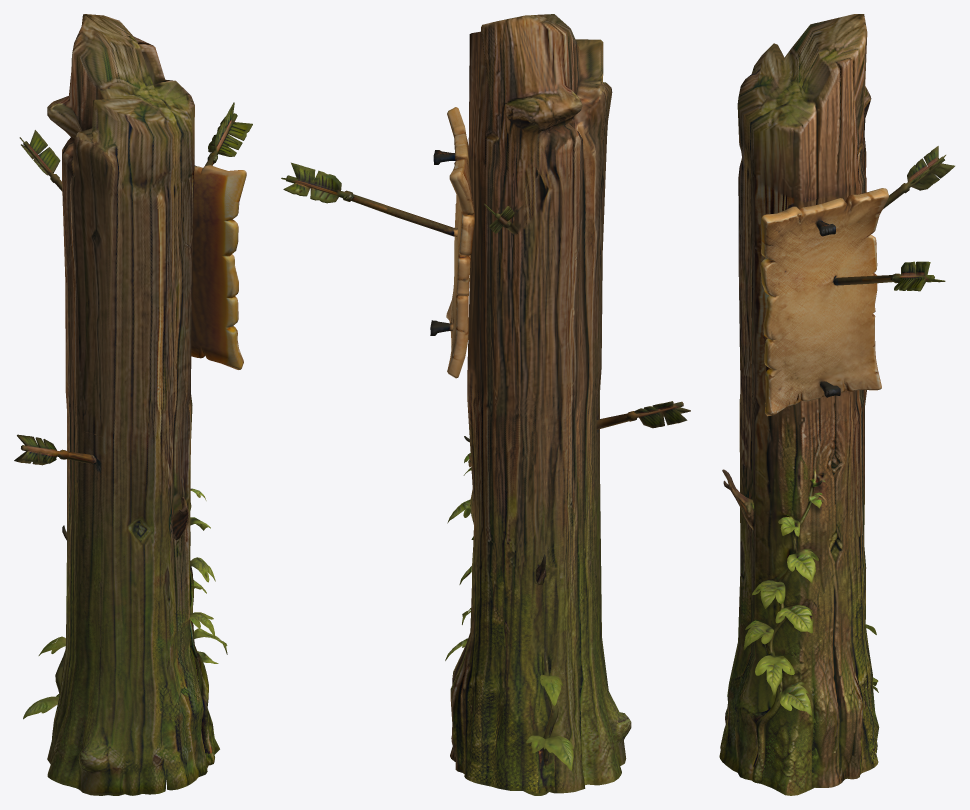
The model's file is SM_Env_SherwoodWantedPost.fbx.
The picture shows the model from 3 angles, left to right: view 1: azimuth 30°, elevation 25°; view 2: azimuth 150°, elevation 25°; view 3: azimuth 270°, elevation 25°; orthographic projection. The views are drawn at different scales.
Parts seen in each view (by area): view 1: SM_Env_SherwoodWantedPost; view 2: SM_Env_SherwoodWantedPost; view 3: SM_Env_SherwoodWantedPost.
Part boxes in pixels (bbox=[...]): SM_Env_SherwoodWantedPost: bbox=[14, 14, 252, 795]; SM_Env_SherwoodWantedPost: bbox=[281, 14, 690, 795]; SM_Env_SherwoodWantedPost: bbox=[719, 14, 954, 795].
Size of the model in its own units: 24.14 by 15.75 by 54.
Materials: 1 (1 with a texture image).
